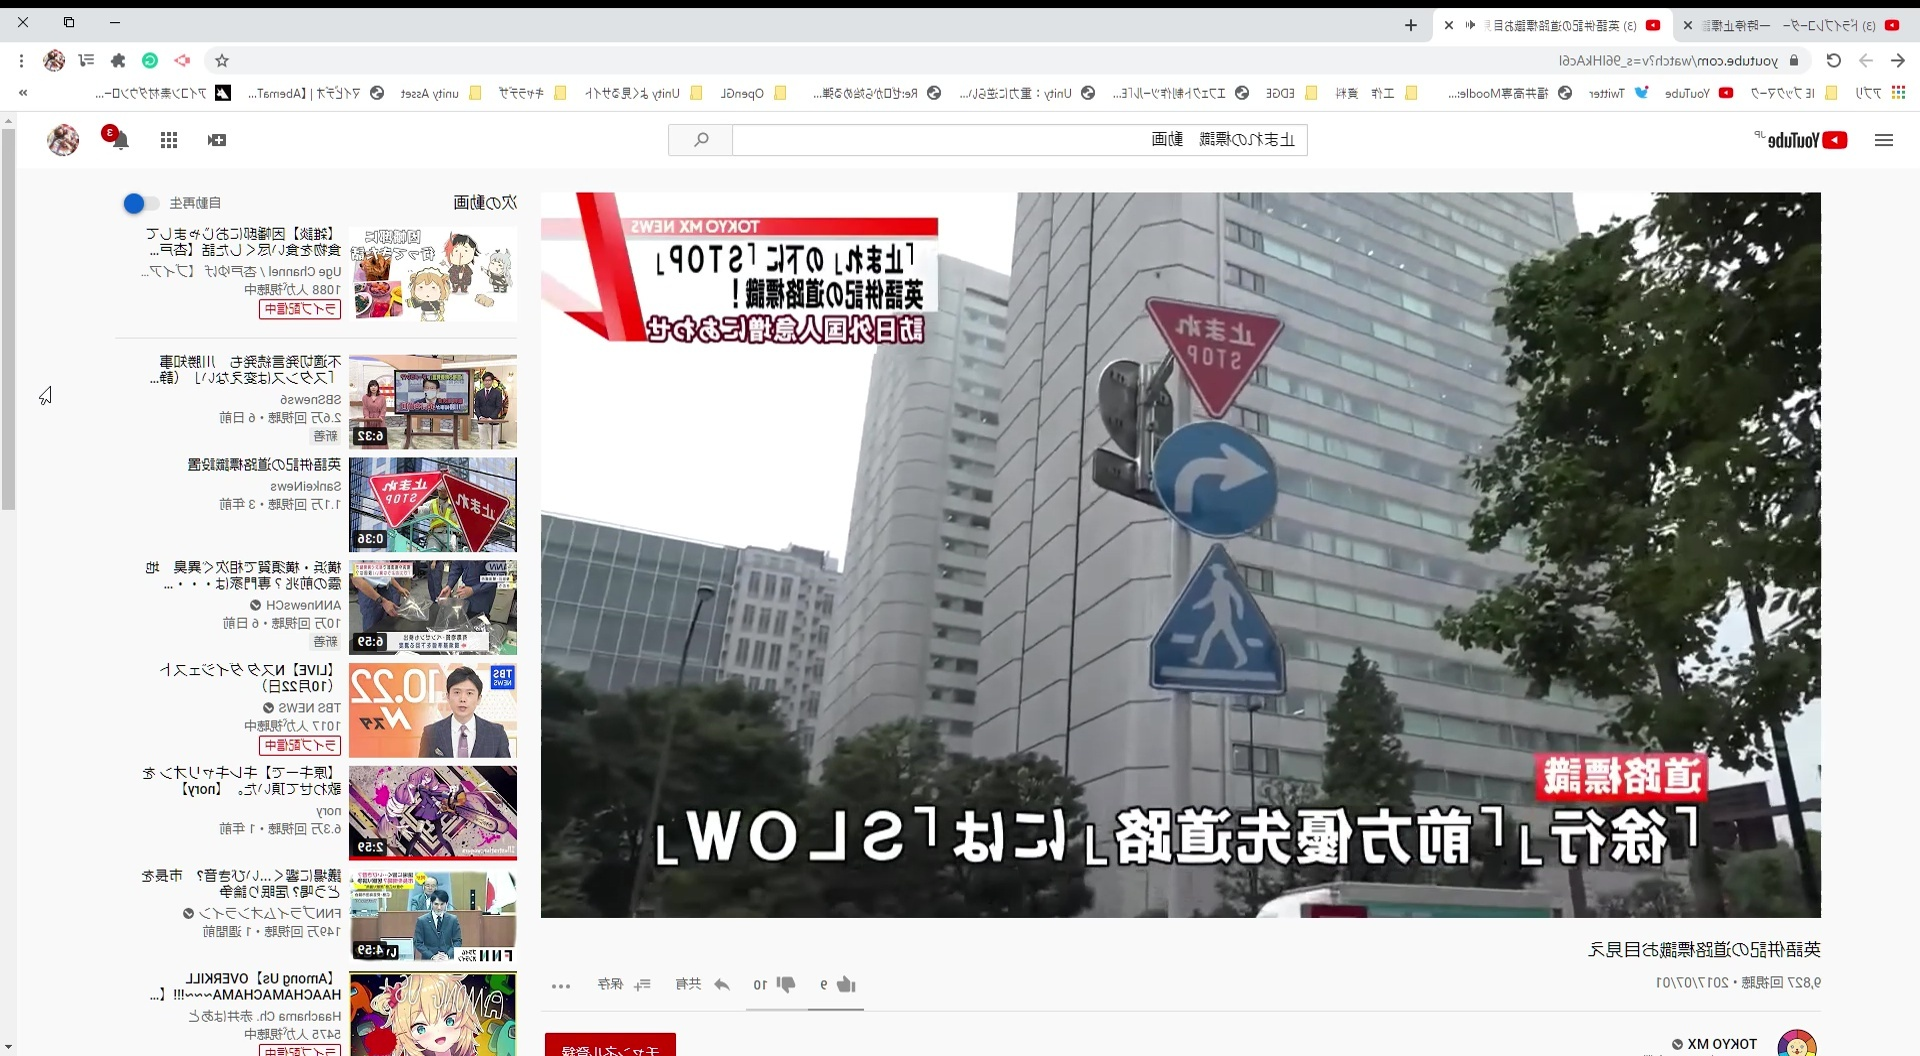Regulatory_sign_triangle: (1148, 293, 1288, 420)
